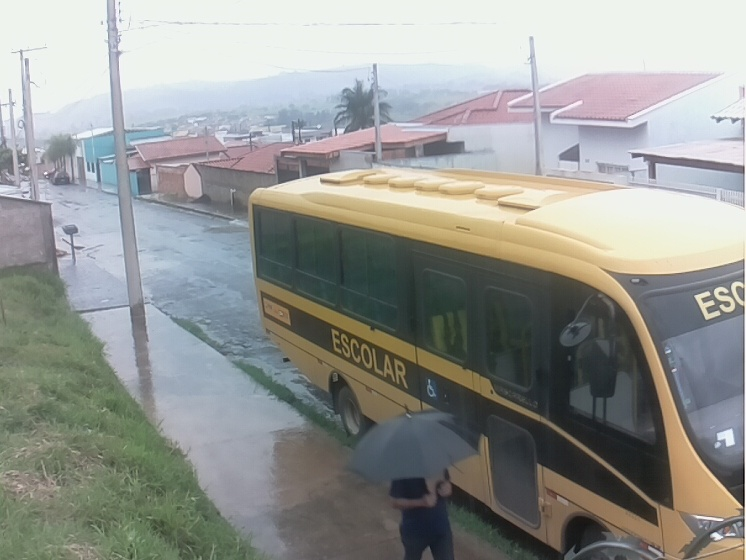person: (386, 465, 458, 560)
